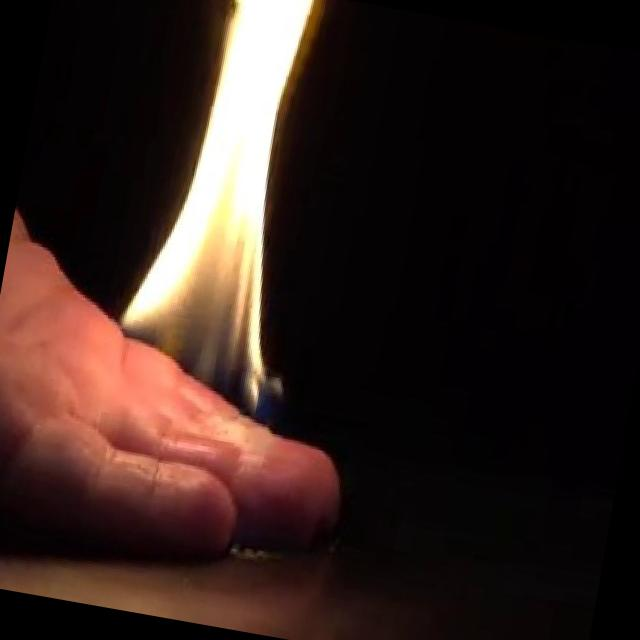Fire: (98, 0, 351, 419)
